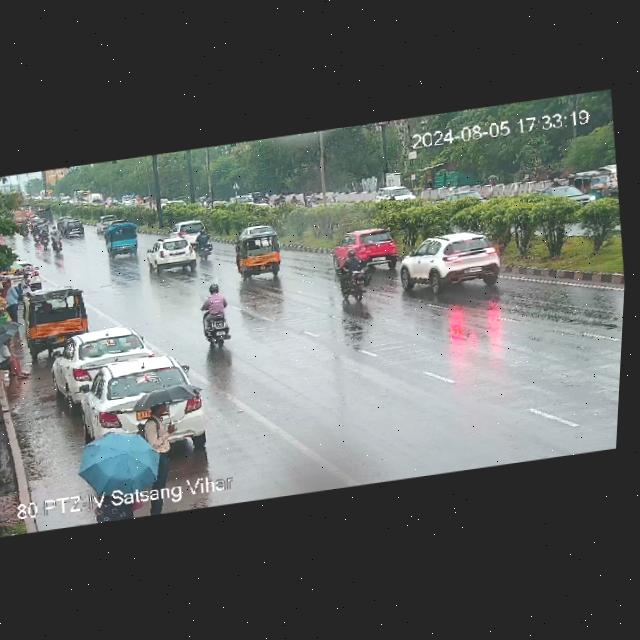car: (71, 352, 205, 440), (394, 226, 508, 297), (49, 323, 153, 394), (20, 283, 93, 348), (329, 223, 401, 273), (230, 224, 289, 281), (143, 232, 199, 280), (567, 164, 619, 198), (102, 217, 141, 261), (375, 181, 423, 204), (167, 215, 202, 245)
motorcycle: (187, 280, 237, 351), (329, 252, 376, 308), (191, 231, 217, 263), (29, 223, 52, 247), (46, 230, 68, 255), (50, 225, 56, 233)
person: (138, 398, 184, 480), (0, 334, 36, 386), (0, 275, 30, 323), (14, 270, 36, 314)
